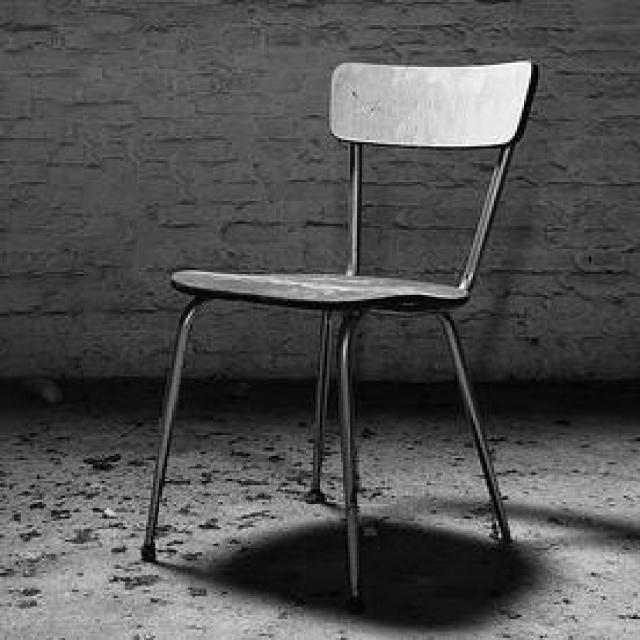chair: (136, 59, 542, 608)
